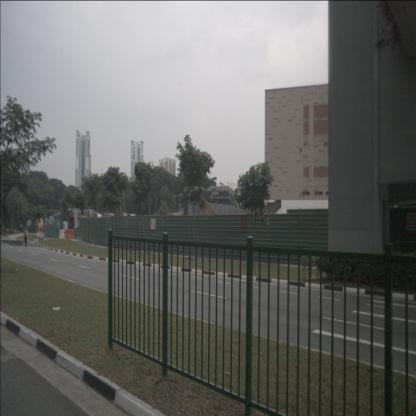barrier: (65, 229, 75, 238), (59, 229, 65, 239), (39, 226, 44, 234)
